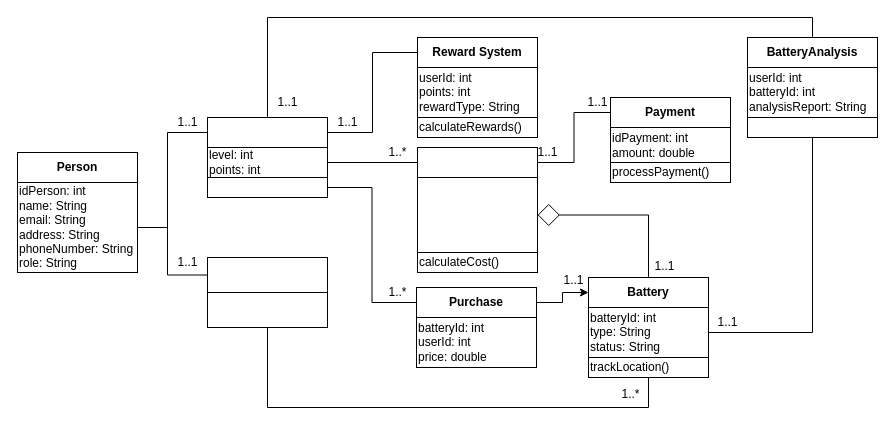
Some shapes in this 895 by 427 pixel diagram are drawn without their labels. Each missing label, with the box of its shape:
Admin: (206, 256, 328, 292)
generateReport(): (746, 116, 878, 138)
monitorBattery() viewAnomalies(): (206, 292, 328, 328)
redeemPoints(): (206, 176, 328, 198)
Rental: (416, 146, 538, 178)
rentalId: int userId: int batteryId: int duration: int cost: double: (416, 176, 538, 252)
User: (206, 116, 328, 148)
